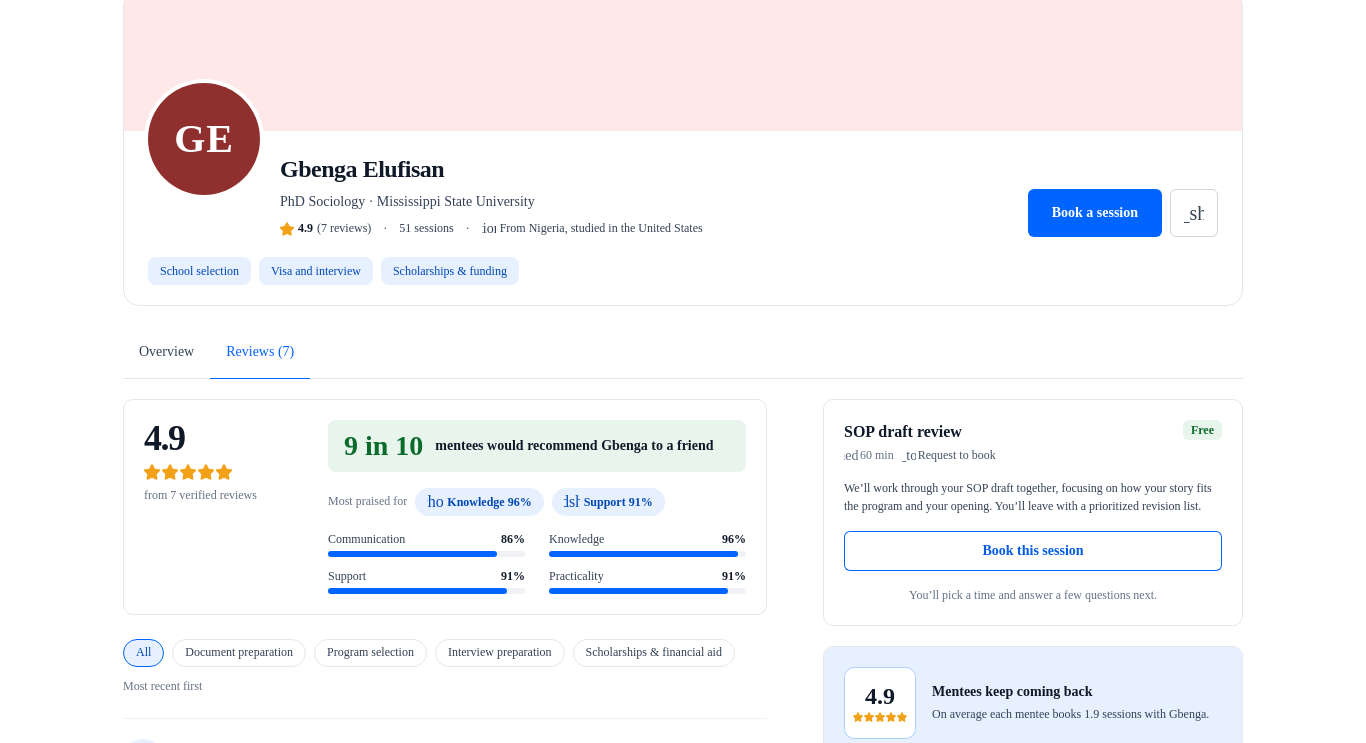
Scenario: MentorProfileScreen — Reviews tab › under a topic the caption and "Show N more" use the topic count, not the profile total
The width and height of the screenshot is (1366, 743).
Click the button "Document preparation" at [239, 653], box [172,639,306,667]
(page scrolled)
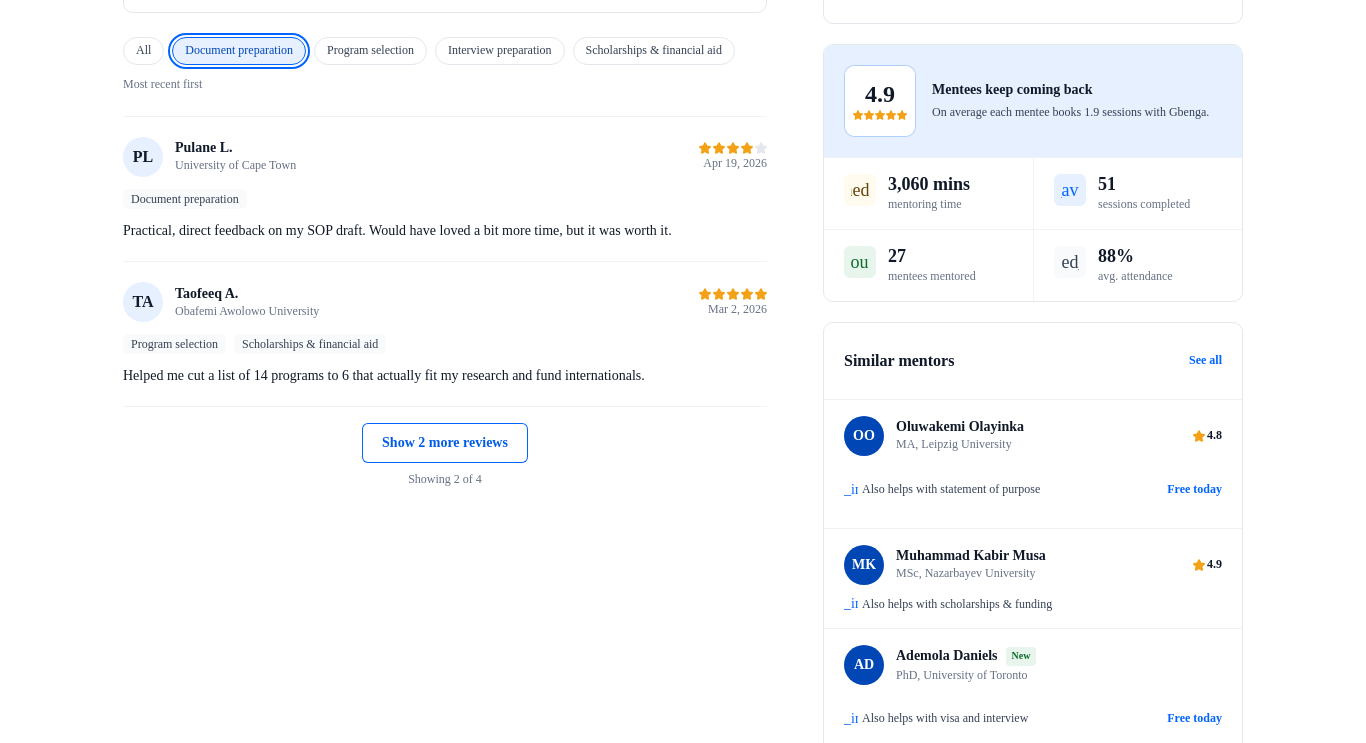
Result: the text "Showing 2 of 4" is shown at [408,471,482,489]
Result: the button "Show 2 more reviews" is shown at [362,423,528,463]
